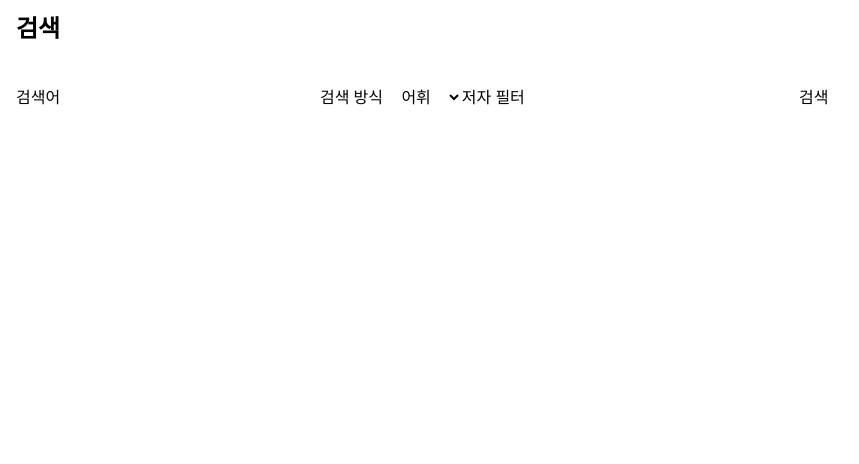
U3 discovery surface › renders snapshot-bound results with availability badges
In the field with test id "search-query": (190,98) [60,66,320,129], type "attention"
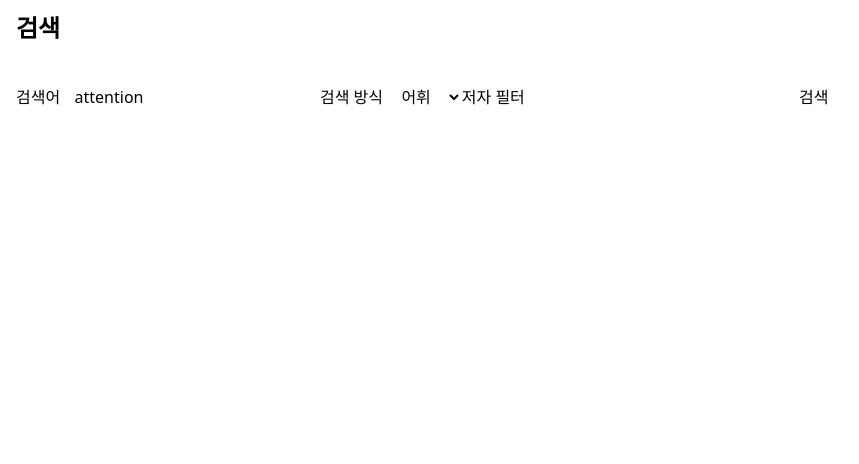
Click the button with test id "search-submit": (814,98) [785,76,843,120]
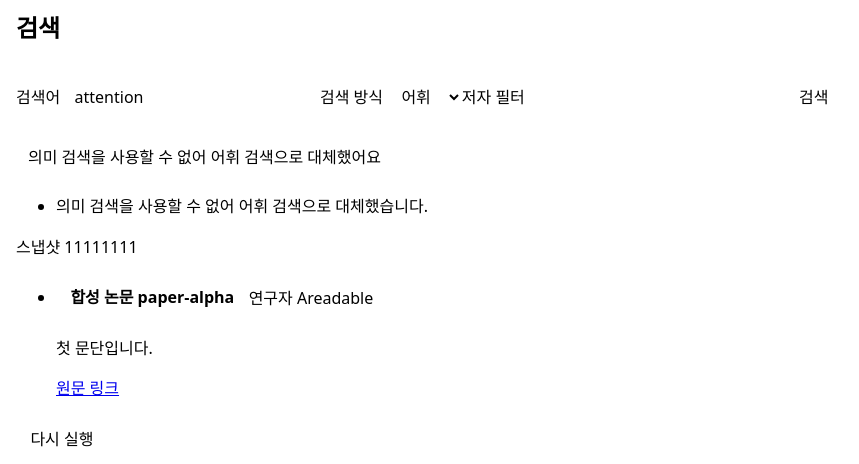
Result: the list item with test id "result-row" is shown at [56,276,373,399]
Result: the text with test id "result-availability" reads "readable" at [307,286,373,308]
Result: the list with test id "snapshot-notice" shows "의미 검색" at [56,195,428,217]
